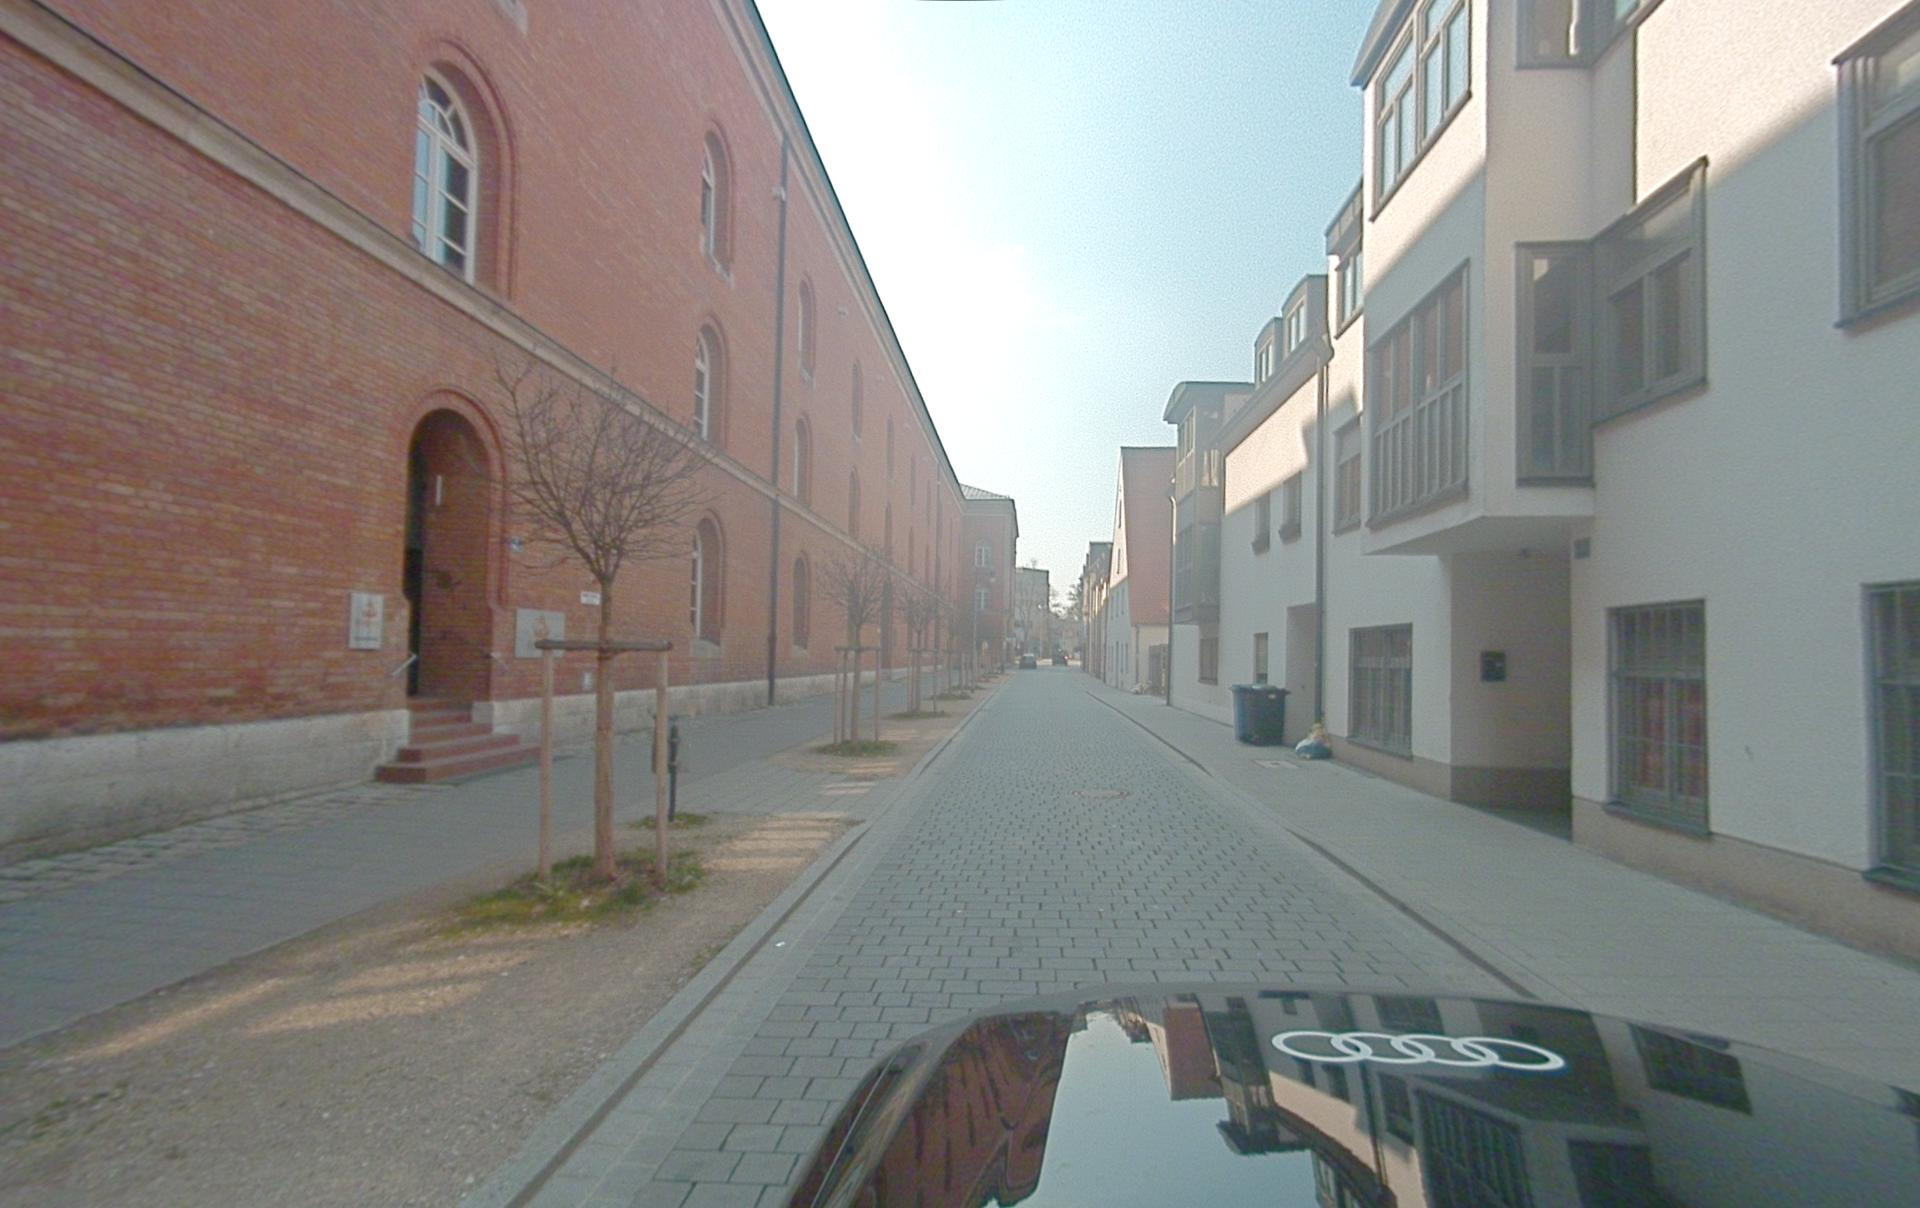car: (783, 985, 1919, 1207), (1020, 654, 1037, 669)
